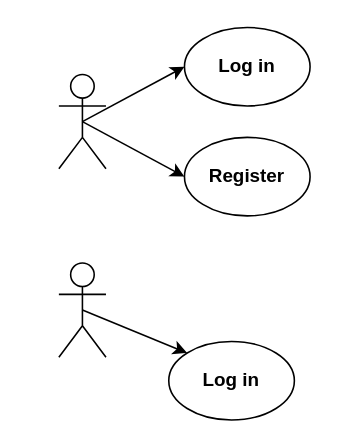
Image size: 338x447. Some labels were removed from this diagram. The centre of each missing label's shape, as x and y in pixels:
Administrator: the point at 81,309
User: the point at 81,121
